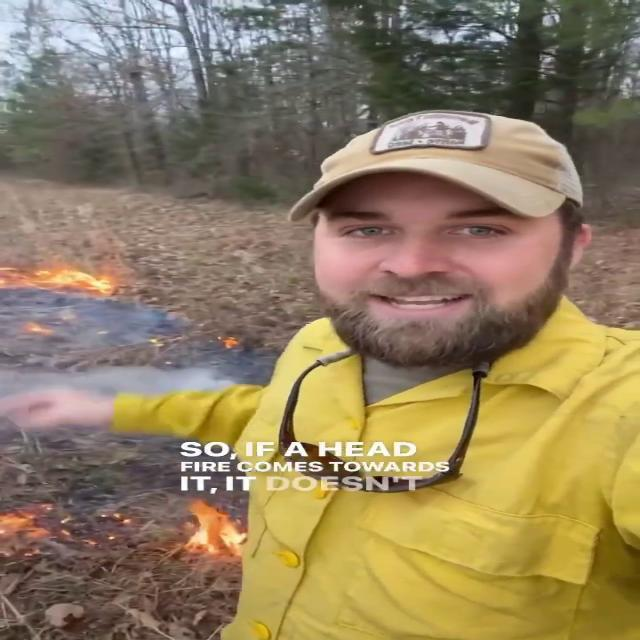Fire: (3, 257, 121, 299), (174, 498, 250, 560)
